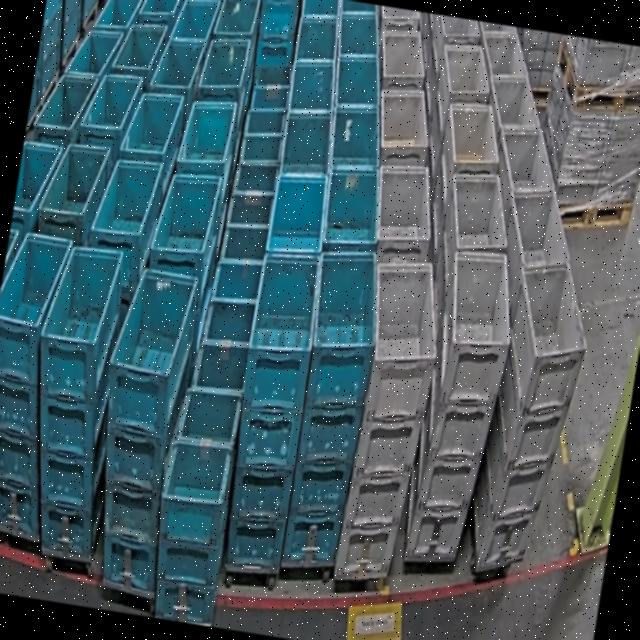4G: (464, 252, 600, 584), (328, 254, 451, 586), (397, 247, 523, 570)
B4: (74, 264, 204, 593), (8, 241, 143, 557), (273, 244, 390, 576), (214, 248, 327, 578), (0, 228, 87, 542)
B8: (142, 384, 247, 624)
